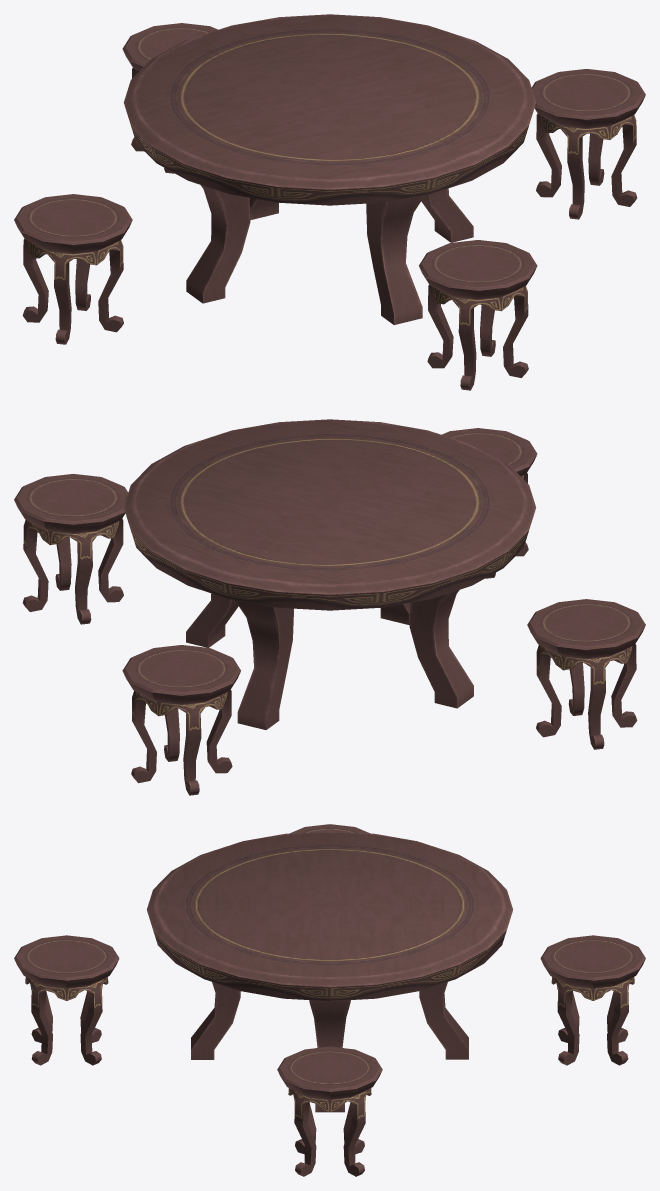
File: Homeworld_Exterior_Ly_Table_Prop_Roundtable_01_Vo.fbx
3 views of the same model, one above another, from view 1: azimuth 30°, elevation 25°; view 2: azimuth 150°, elevation 25°; view 3: azimuth 270°, elevation 25° (orthographic). The views are drawn at different scales.
Visible parts, largest first — view 1: Area_Ly_Prop_Common_Table_B_01_Vo(Clone), Area_Ly_Prop_Common_Chair_B_01_Vo(Clone) (×4); view 2: Area_Ly_Prop_Common_Table_B_01_Vo(Clone), Area_Ly_Prop_Common_Chair_B_01_Vo(Clone) (×4); view 3: Area_Ly_Prop_Common_Table_B_01_Vo(Clone), Area_Ly_Prop_Common_Chair_B_01_Vo(Clone) (×3).
Boxes of the visible parts, box(x1,y1,x2,y2) form: Area_Ly_Prop_Common_Table_B_01_Vo(Clone): box(123, 14, 536, 324); Area_Ly_Prop_Common_Chair_B_01_Vo(Clone) (×4): box(14, 23, 645, 390); Area_Ly_Prop_Common_Table_B_01_Vo(Clone): box(123, 419, 536, 729); Area_Ly_Prop_Common_Chair_B_01_Vo(Clone) (×4): box(14, 428, 645, 795); Area_Ly_Prop_Common_Table_B_01_Vo(Clone): box(147, 831, 512, 1112); Area_Ly_Prop_Common_Chair_B_01_Vo(Clone) (×3): box(14, 935, 645, 1176).
Size of the model in its own units: 3.03 by 0.7845 by 3.03.
